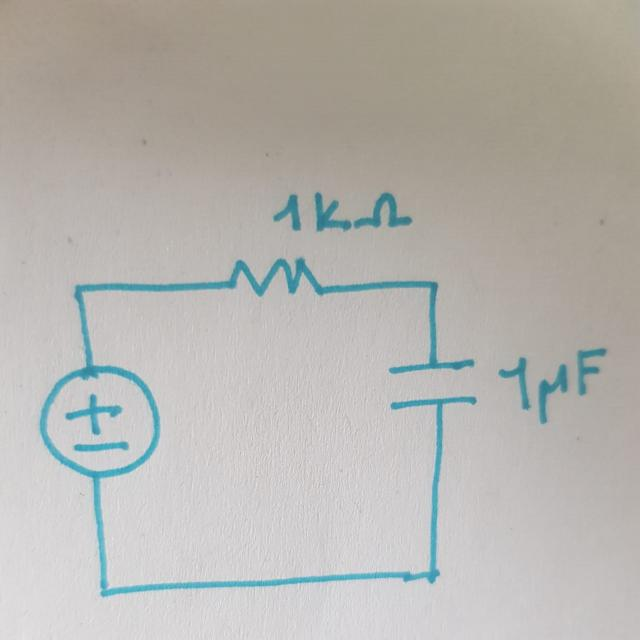capacitor: (382, 353, 482, 411)
junction: (418, 562, 440, 586), (420, 277, 440, 299), (70, 281, 90, 299), (96, 580, 114, 600)
resistor: (220, 255, 326, 302)
source: (36, 365, 163, 477)
text: (496, 341, 608, 427), (270, 189, 414, 234)
